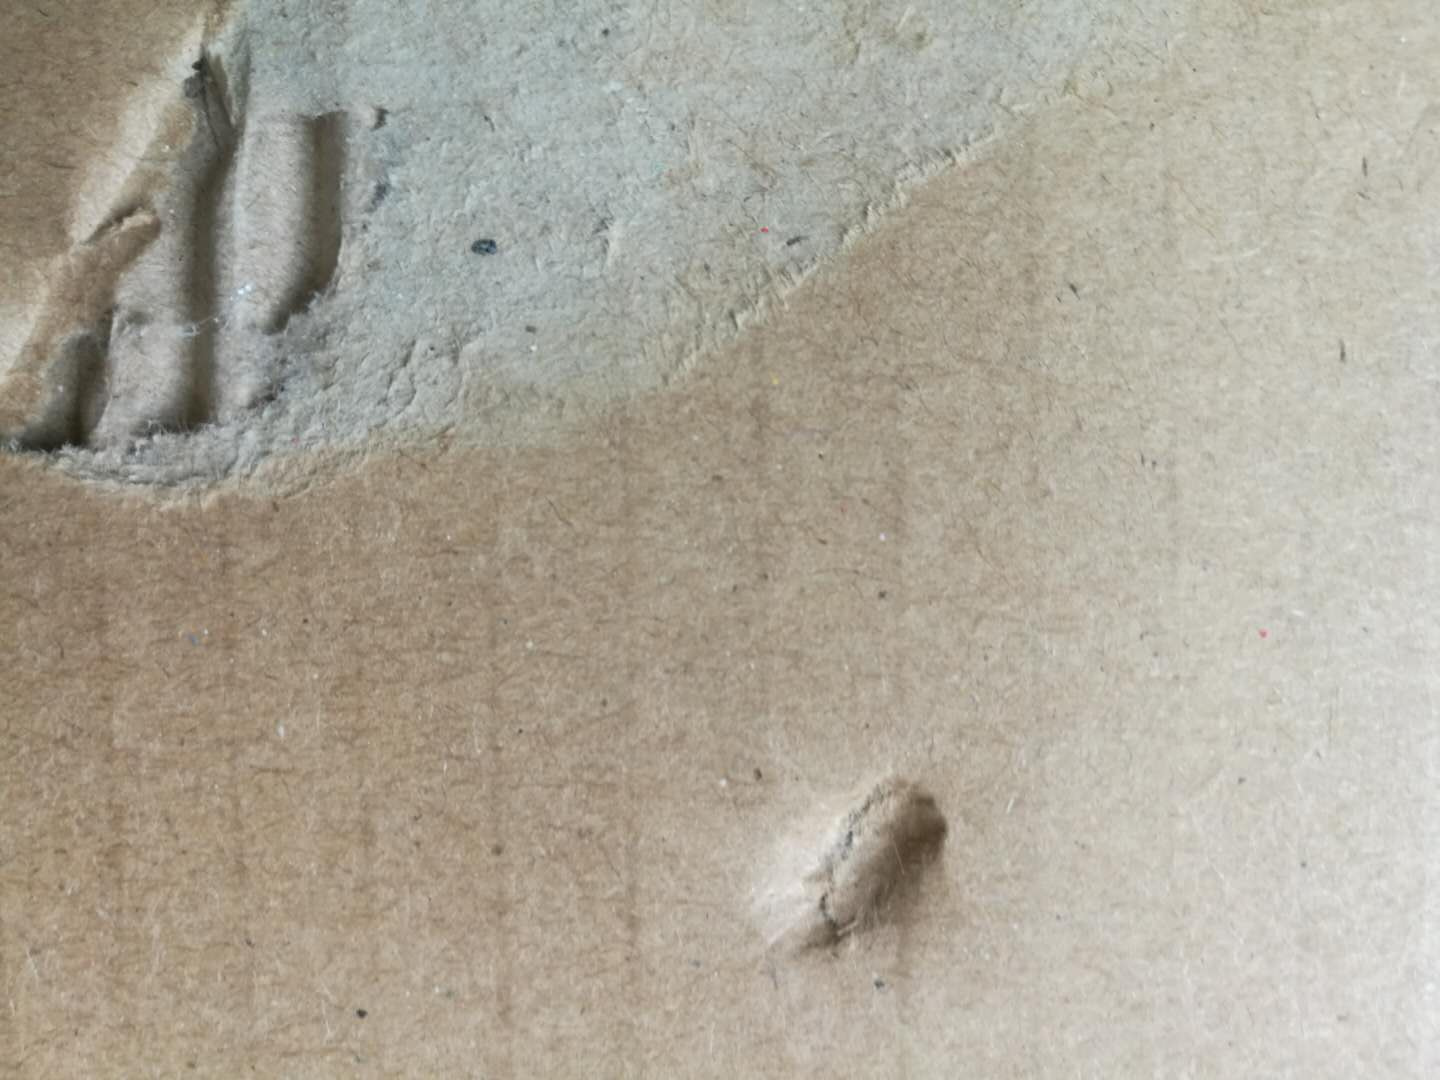defect: (3, 2, 1316, 543), (712, 746, 1010, 1024)
